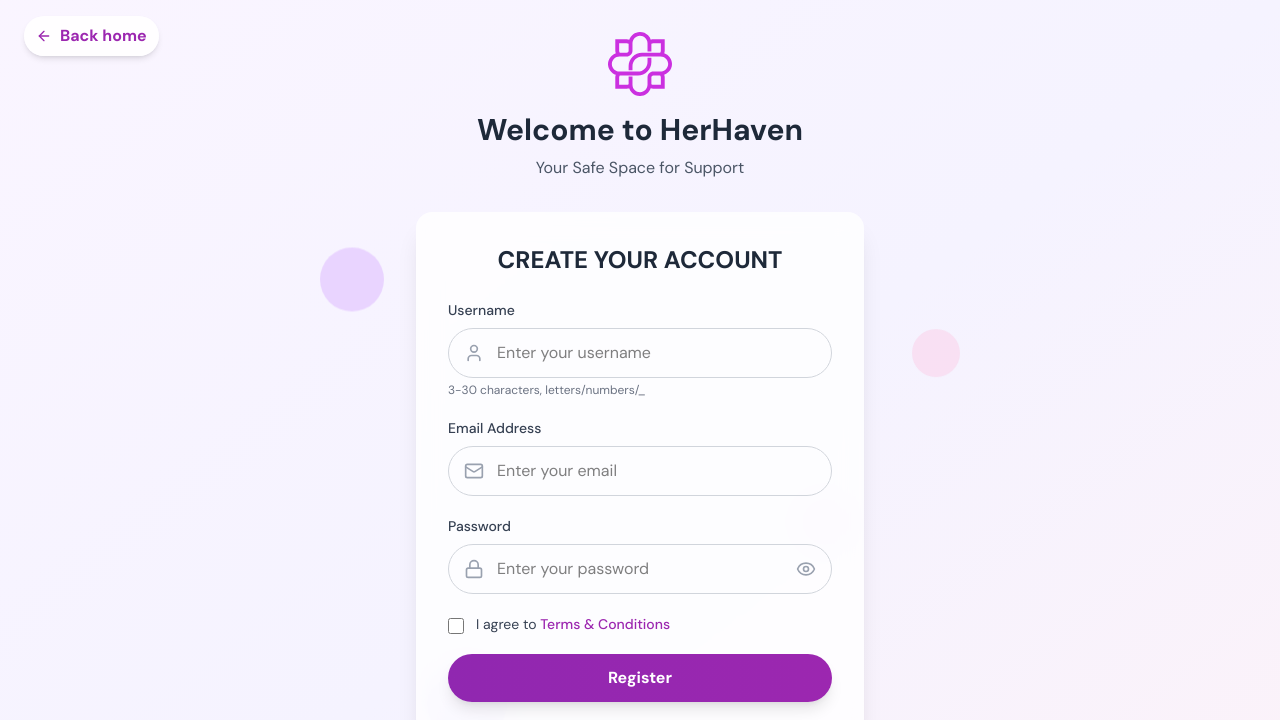
Signup Page › should show validation errors for empty fields
What coordinates should you click on to do the following:
click the submit button
I would click on:
 (640, 678)
Its box is [448,654,832,702].
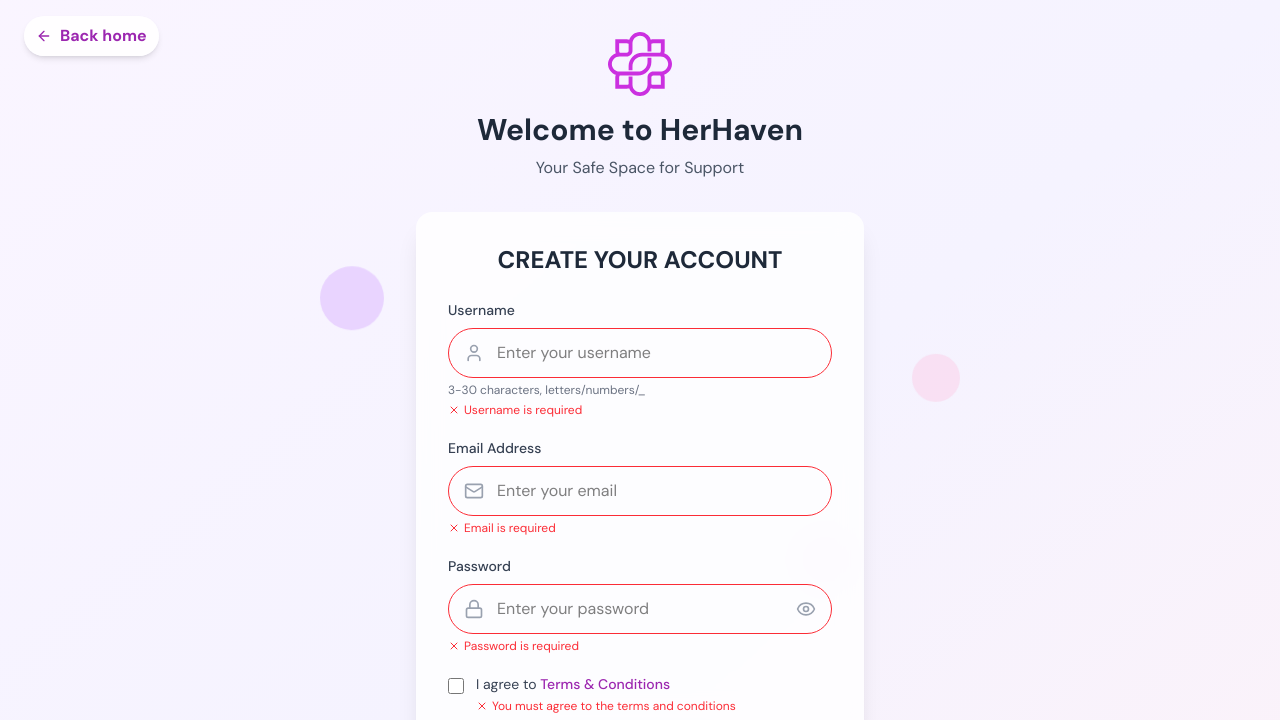
Now the text "Username is required" is shown, box [448,402,582,418]
Now the text "Email is required" is shown, box [448,520,556,536]
Now the text "Password is required" is shown, box [448,638,579,654]
